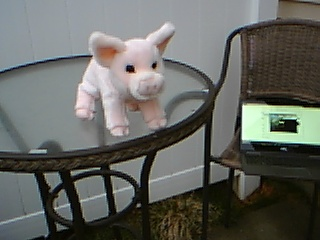piggy: (74, 21, 176, 138)
